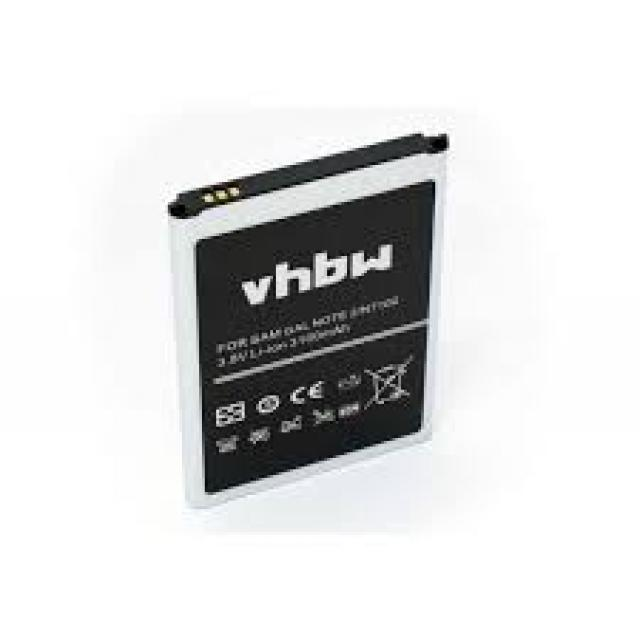non-organic waste: (170, 127, 448, 500)
